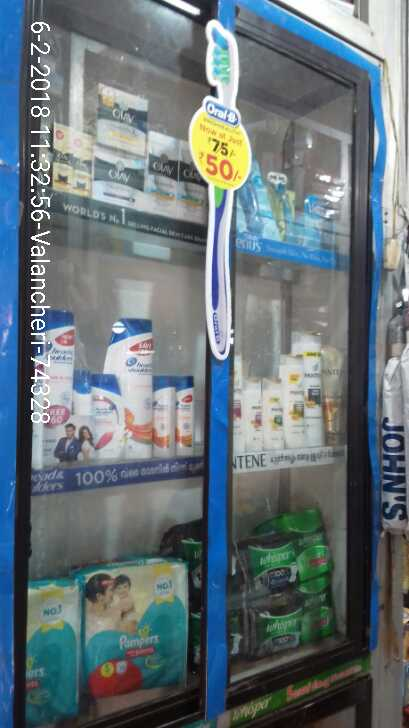venus: (271, 169, 302, 242), (235, 169, 268, 236), (302, 196, 339, 242)
